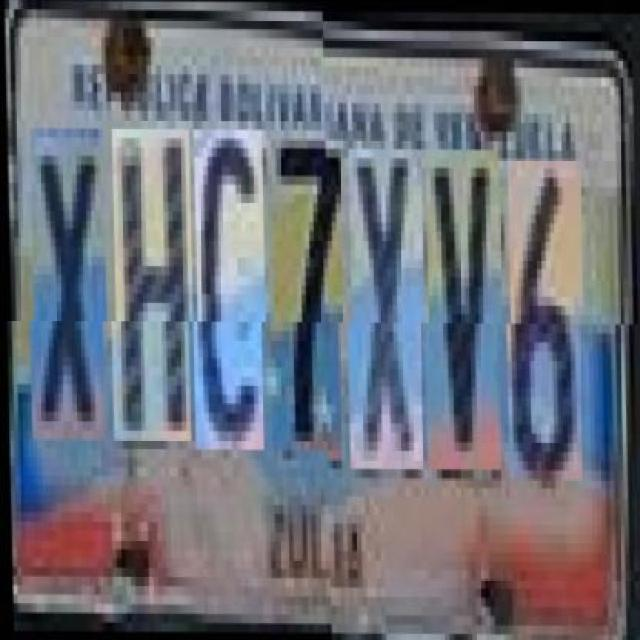6: (506, 158, 585, 478)
7: (270, 139, 344, 459)
c: (192, 138, 266, 458)
h: (111, 138, 194, 450)
v: (425, 149, 503, 469)
x: (348, 148, 426, 468), (29, 138, 108, 448)
